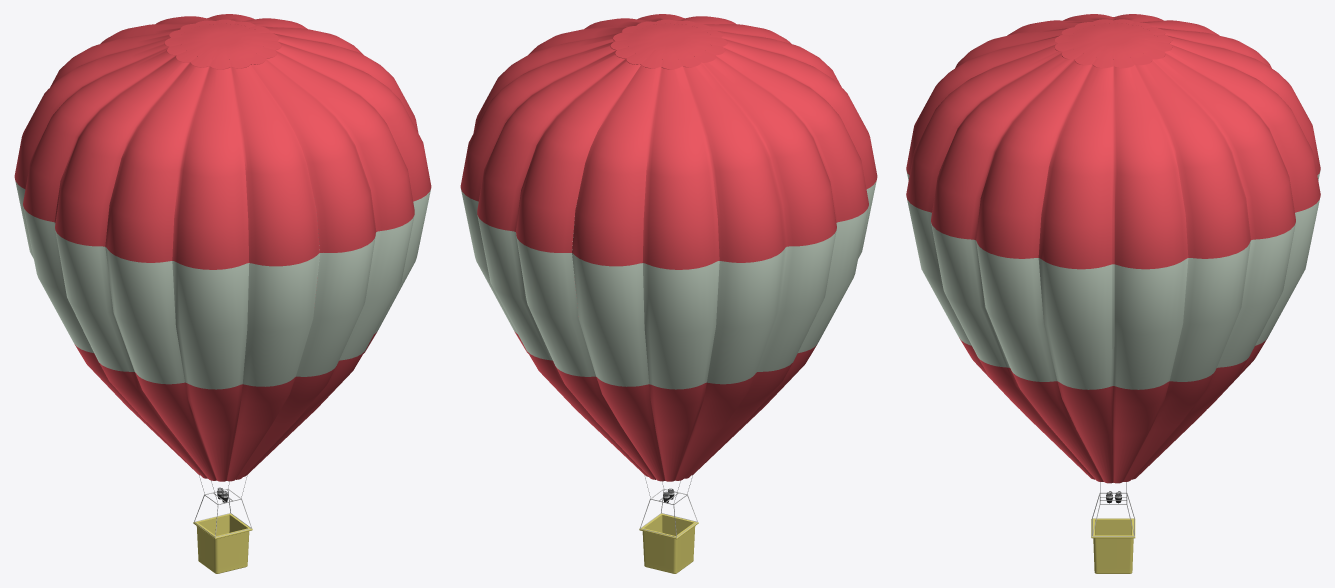
Rendered from hotairballon.fbx.
The picture shows the model from 3 angles, left to right: view 1: azimuth 30°, elevation 25°; view 2: azimuth 150°, elevation 25°; view 3: azimuth 270°, elevation 25°; orthographic projection.
Parts seen in each view (by area): view 1: hotairballon3; view 2: hotairballon3; view 3: hotairballon3.
Part boxes in pixels (x1,y1,x2,y2): hotairballon3: (14,14,431,573); hotairballon3: (460,14,877,573); hotairballon3: (906,14,1320,573).
Bounding box in the file's own units: 231 × 325 × 232.
